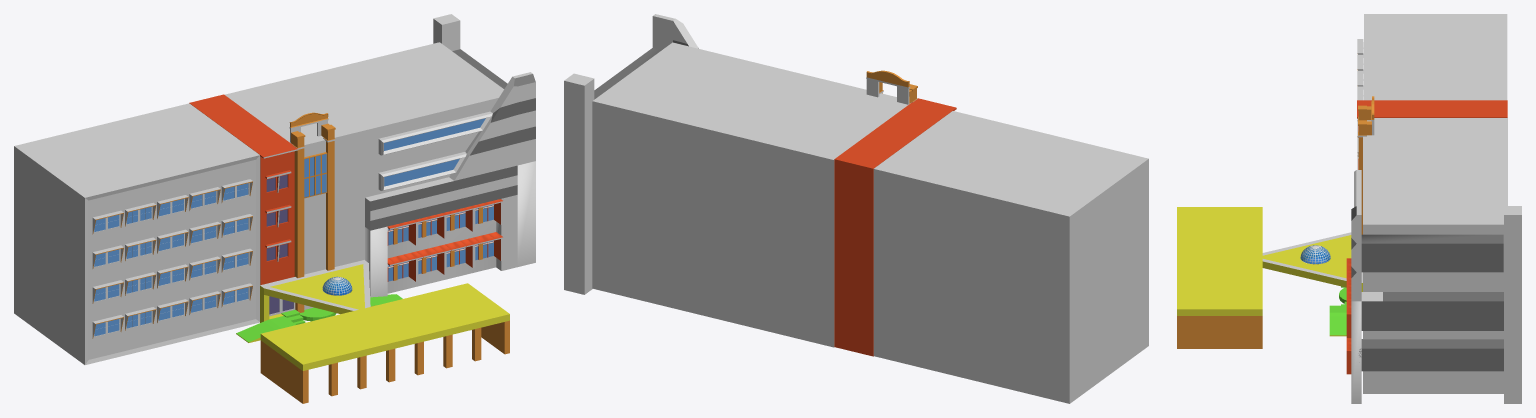
3 renders of one model, left to right at view 1: azimuth 30°, elevation 25°; view 2: azimuth 150°, elevation 25°; view 3: azimuth 270°, elevation 25°, orthographic. The views are drawn at different scales.
Parts seen in each view (by area): view 1: Plane.005; view 2: Plane.005; view 3: Plane.005.
Boxes of the visible parts, x1=… form: Plane.005: x1=14, y1=14, x2=535, y2=403; Plane.005: x1=564, y1=14, x2=1148, y2=403; Plane.005: x1=1177, y1=14, x2=1521, y2=403.
Bounding box in the file's own units: 4287 × 1789 × 2846.
